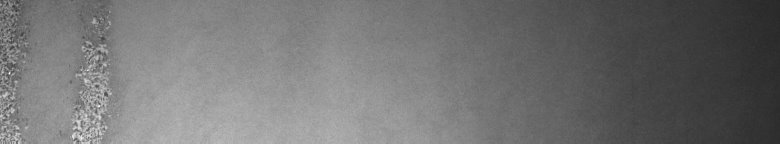hc: (4, 4, 120, 136)
